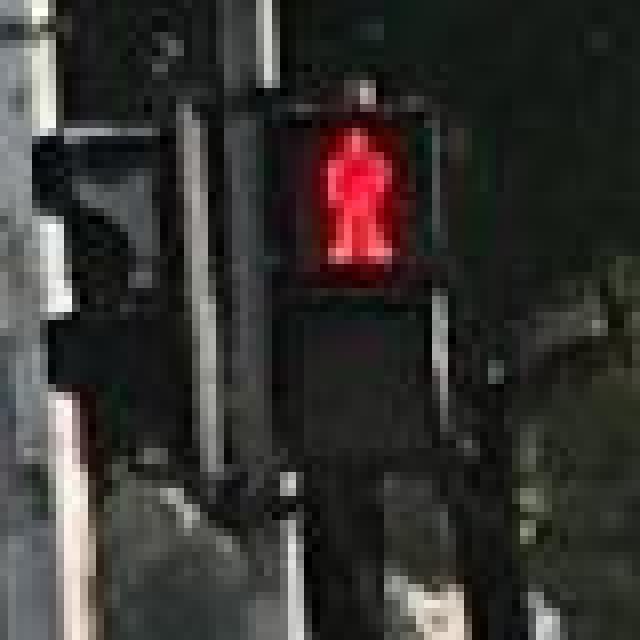redlight: (256, 80, 448, 480)
